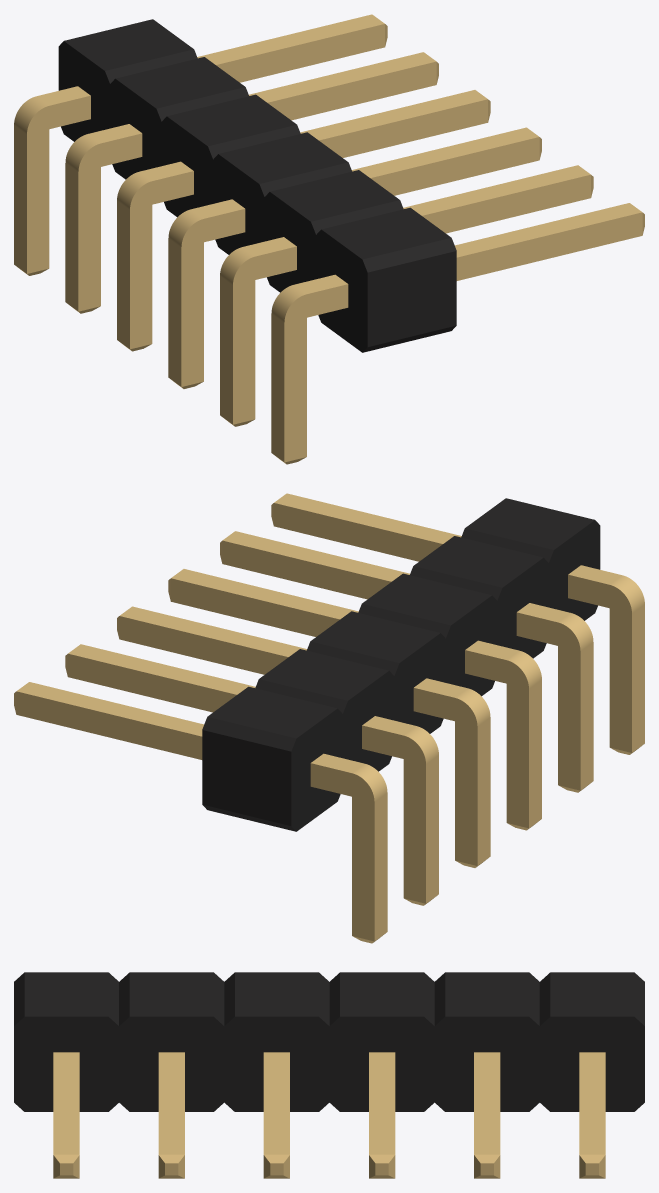
Rendered from pinheader_1x06_p2_54mm_horizontal.glb.
3 views of the same model, one above another, from view 1: azimuth 30°, elevation 25°; view 2: azimuth 150°, elevation 25°; view 3: azimuth 270°, elevation 25° (orthographic). The views are drawn at different scales.
Parts seen in each view (by area): view 1: conn_header_1x06_ra, pin_3, pin_2, pin_4, pin_6, pin_1, pin_5; view 2: conn_header_1x06_ra, pin_4, pin_1, pin_3, pin_5, pin_2, pin_6; view 3: conn_header_1x06_ra.
Part boxes in pixels (bbox=[...]): conn_header_1x06_ra: bbox=[14, 14, 644, 357]; pin_3: bbox=[117, 236, 152, 351]; pin_2: bbox=[65, 198, 100, 313]; pin_4: bbox=[168, 273, 203, 388]; pin_6: bbox=[271, 349, 306, 464]; pin_1: bbox=[14, 160, 49, 275]; pin_5: bbox=[220, 311, 255, 426]; conn_header_1x06_ra: bbox=[14, 493, 644, 836]; pin_4: bbox=[506, 715, 541, 830]; pin_1: bbox=[352, 828, 387, 943]; pin_3: bbox=[455, 752, 490, 867]; pin_5: bbox=[558, 677, 593, 792]; pin_2: bbox=[403, 790, 438, 905]; pin_6: bbox=[609, 639, 644, 754]; conn_header_1x06_ra: bbox=[14, 972, 644, 1178].
Size of the model in its own units: 0.0104 by 0.00554 by 0.0152.
